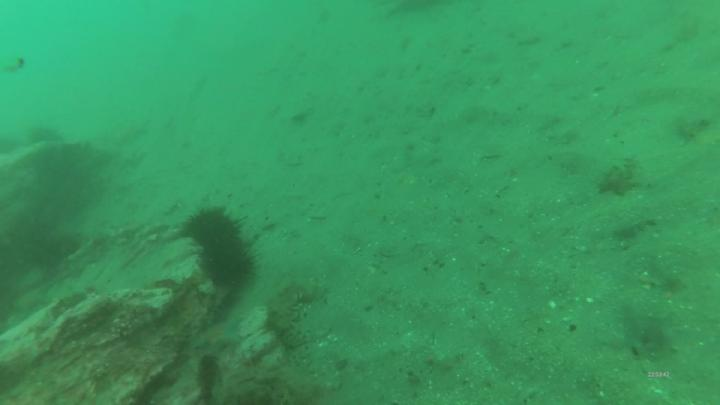echinus: (198, 244, 254, 286), (185, 210, 239, 246)
holothurian: (269, 282, 314, 348)
starfish: (202, 317, 242, 354), (600, 168, 632, 197)
